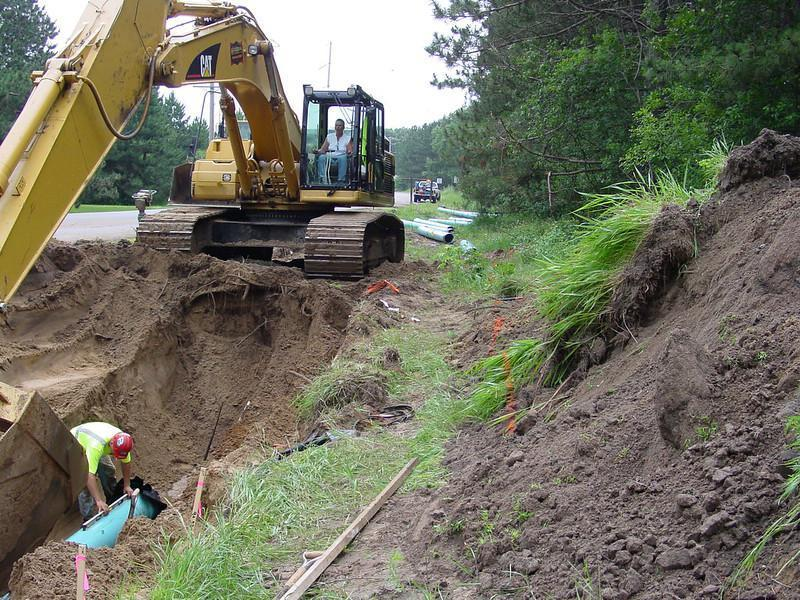Helmet: (112, 432, 134, 459)
Person: (67, 417, 135, 510), (314, 117, 352, 181)
Safety Vest: (72, 420, 119, 472)
no-vest: (325, 126, 351, 150)
